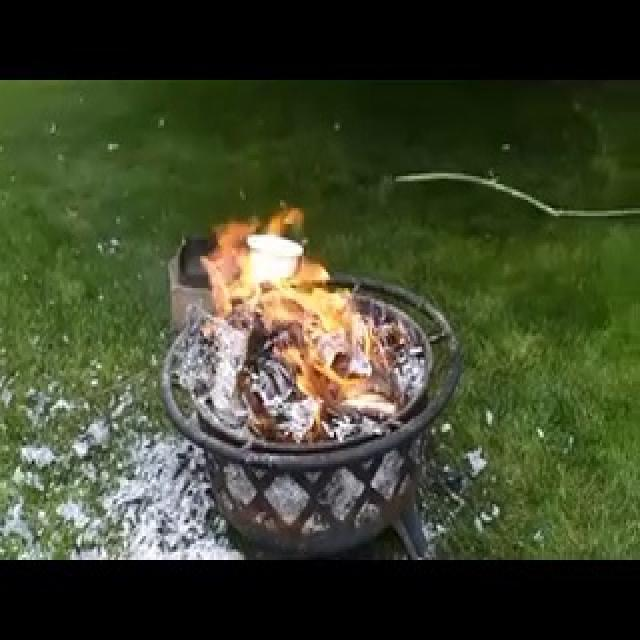fire: (149, 109, 399, 424)
